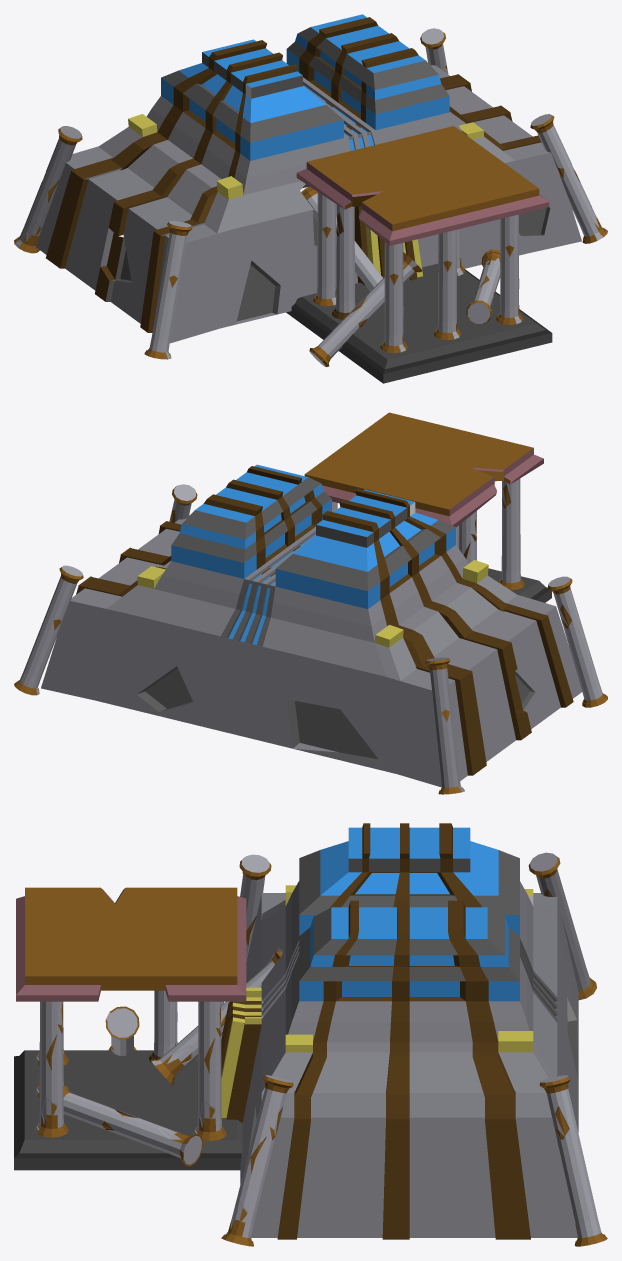
The model's file is храм.fbx.
3 renders of one model, top to bottom at view 1: azimuth 30°, elevation 25°; view 2: azimuth 150°, elevation 25°; view 3: azimuth 270°, elevation 25°, orthographic. The views are drawn at different scales.
Visible parts, largest first — view 1: Куб.002, Куб.001, Куб, Цилиндр.011, Цилиндр.012, Цилиндр.014, Цилиндр.008, Цилиндр.002, Цилиндр, Цилиндр.007, Цилиндр.009, Цилиндр.001 (+3 smaller); view 2: Куб.002, Куб.001, Цилиндр.013, Цилиндр.014, Цилиндр.011, Цилиндр.008, Куб, Цилиндр.001, Цилиндр.012; view 3: Куб.002, Куб.001, Куб, Цилиндр.013, Цилиндр.012, Цилиндр.003, Цилиндр.004, Цилиндр.007, Цилиндр.014, Цилиндр.010, Цилиндр.011, Цилиндр.001 (+1 smaller).
Boxes of the visible parts, x1=… form: Куб.002: x1=36, y1=14, x2=581, y2=343; Куб.001: x1=296, y1=126, x2=549, y2=245; Куб: x1=286, y1=263, x2=552, y2=383; Цилиндр.011: x1=144, y1=221, x2=192, y2=359; Цилиндр.012: x1=530, y1=114, x2=607, y2=243; Цилиндр.014: x1=14, y1=126, x2=82, y2=253; Цилиндр.008: x1=380, y1=242, x2=407, y2=353; Цилиндр.002: x1=309, y1=252, x2=421, y2=367; Цилиндр: x1=313, y1=192, x2=336, y2=306; Цилиндр.007: x1=496, y1=214, x2=523, y2=324; Цилиндр.009: x1=433, y1=230, x2=461, y2=340; Цилиндр.001: x1=332, y1=204, x2=355, y2=319; Куб.002: x1=41, y1=464, x2=582, y2=787; Куб.001: x1=304, y1=412, x2=543, y2=527; Цилиндр.013: x1=14, y1=565, x2=83, y2=695; Цилиндр.014: x1=425, y1=657, x2=464, y2=794; Цилиндр.011: x1=548, y1=576, x2=607, y2=707; Цилиндр.008: x1=498, y1=478, x2=524, y2=590; Куб: x1=488, y1=568, x2=551, y2=602; Цилиндр.001: x1=459, y1=511, x2=476, y2=563; Цилиндр.012: x1=169, y1=484, x2=197, y2=522; Куб.002: x1=221, y1=823, x2=578, y2=1239; Куб.001: x1=16, y1=887, x2=246, y2=1001; Куб: x1=14, y1=1050, x2=242, y2=1170; Цилиндр.013: x1=539, y1=1075, x2=607, y2=1246; Цилиндр.012: x1=221, y1=1075, x2=293, y2=1246; Цилиндр.003: x1=63, y1=1085, x2=202, y2=1166; Цилиндр.004: x1=192, y1=1001, x2=226, y2=1141; Цилиндр.007: x1=34, y1=1001, x2=68, y2=1137; Цилиндр.014: x1=528, y1=852, x2=596, y2=1000; Цилиндр.010: x1=150, y1=950, x2=282, y2=1085; Цилиндр.011: x1=239, y1=854, x2=271, y2=961; Цилиндр.001: x1=149, y1=990, x2=177, y2=1063.
Size of the model in its own units: 5046 by 2216 by 4563.
